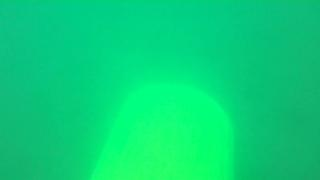pipe: (90, 85, 234, 180)
